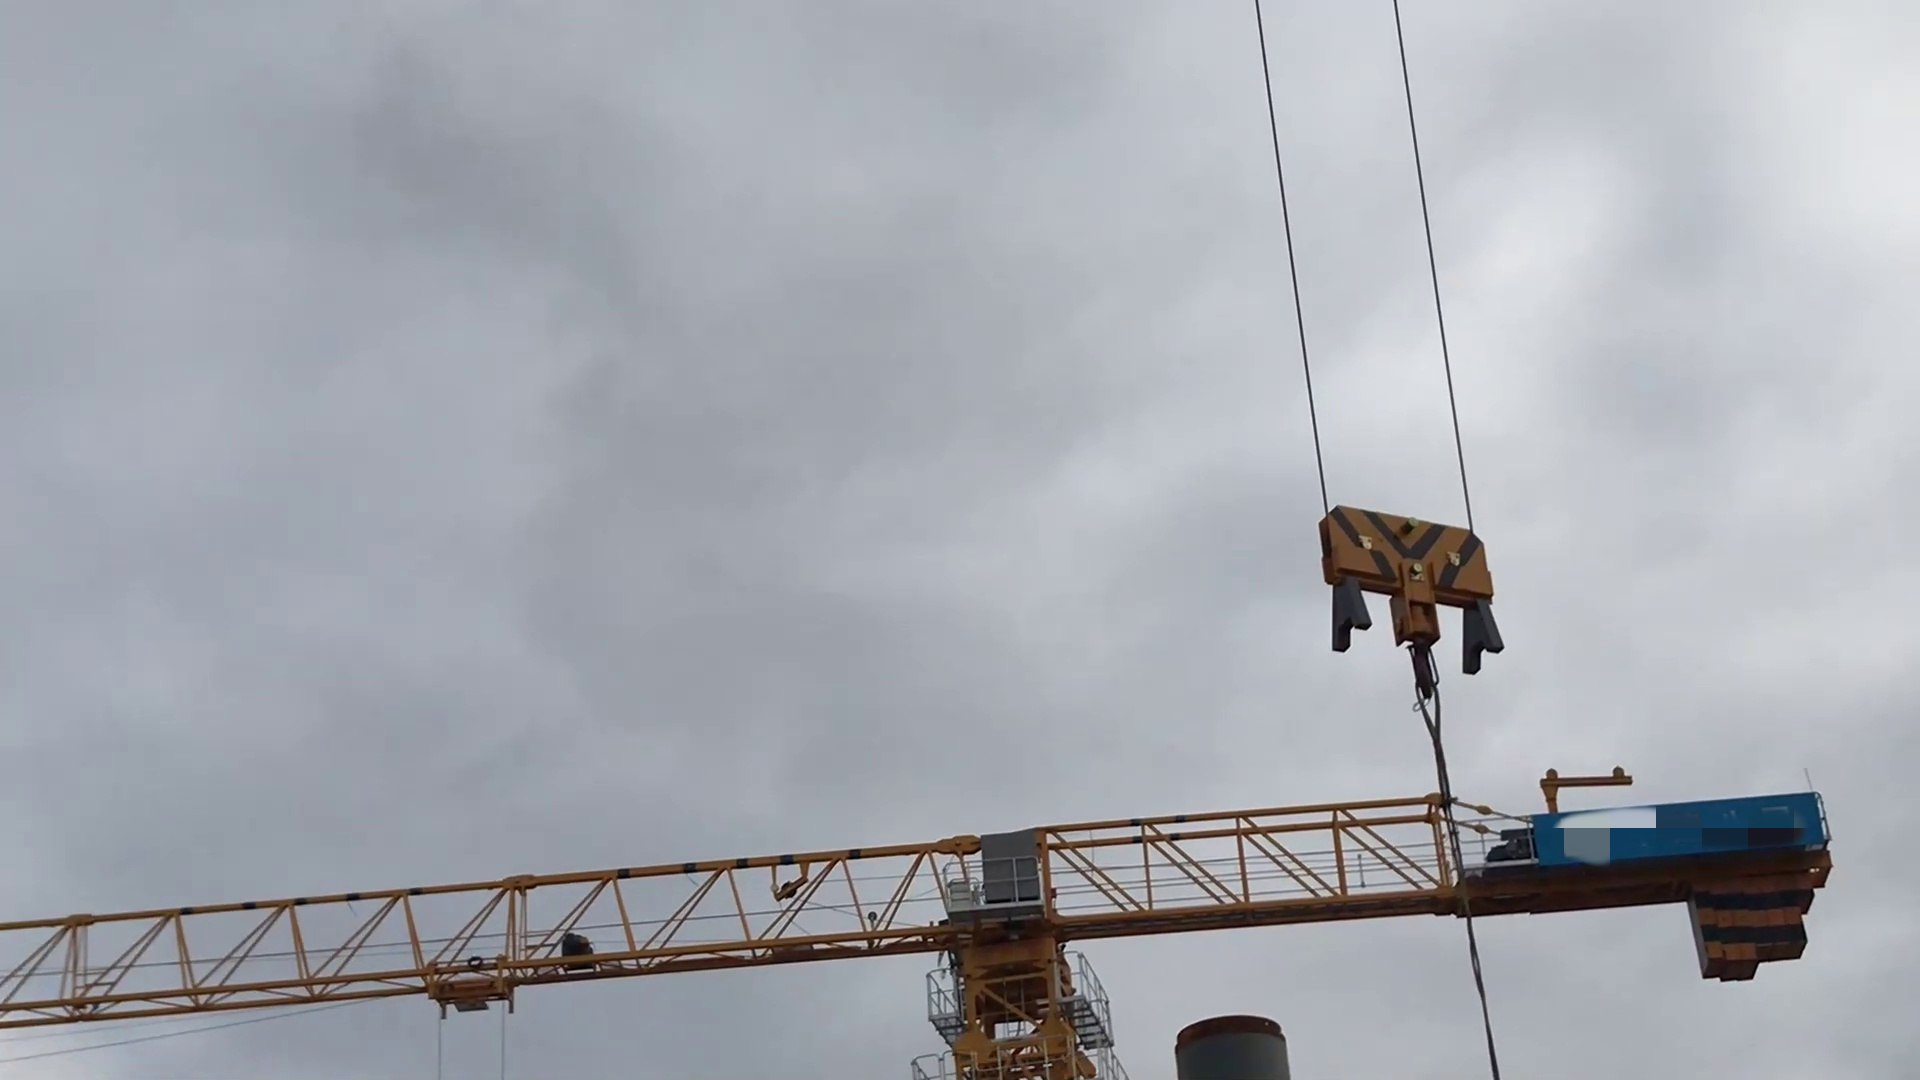hook: (1307, 500, 1516, 716)
